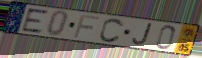0: (44, 10, 71, 38), (155, 24, 177, 50)
C: (98, 17, 126, 44)
E: (21, 7, 51, 34)
F: (72, 13, 101, 39)
J: (132, 23, 154, 46)
